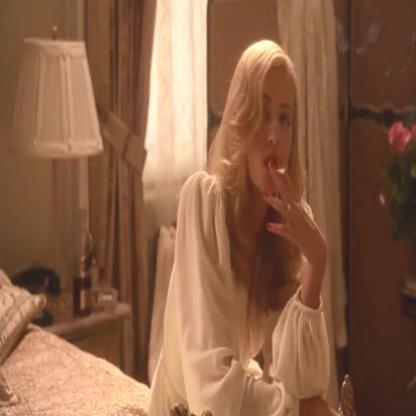cigarette: (277, 167, 290, 176)
person: (161, 35, 327, 415)
